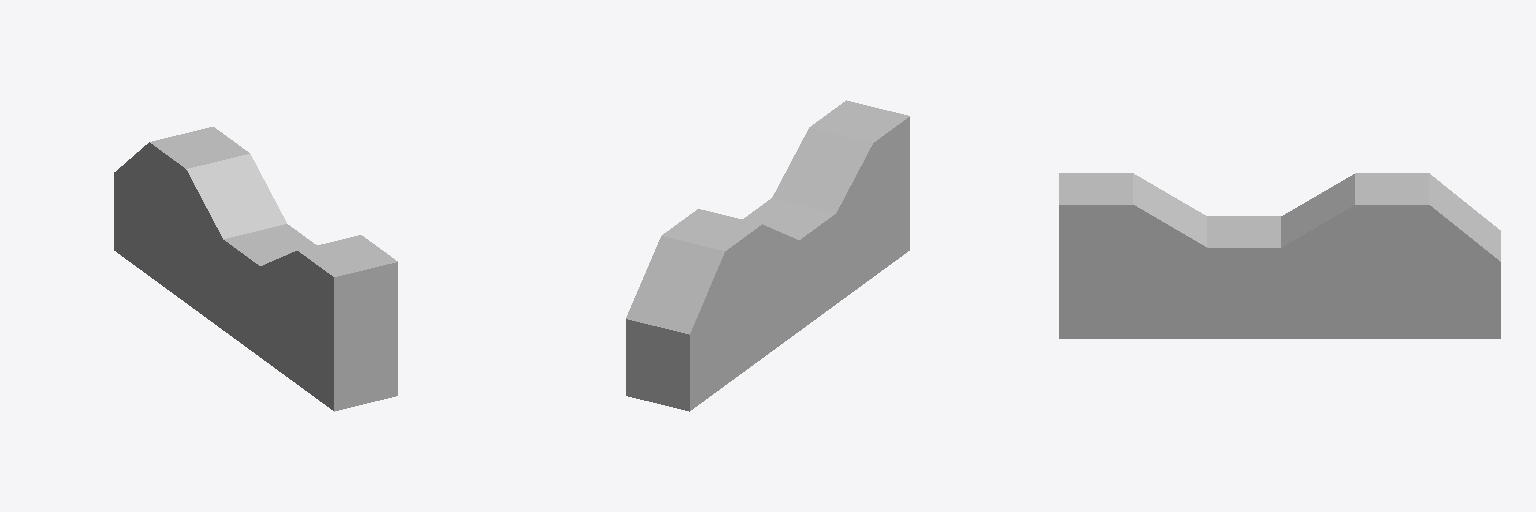
Rendered from cubecycle.obj.
3 views of the same model, side by side, from view 1: azimuth 30°, elevation 25°; view 2: azimuth 150°, elevation 25°; view 3: azimuth 270°, elevation 25° (orthographic).
Parts seen in each view (by area): view 1: Cube; view 2: Cube; view 3: Cube.
Boxes of the visible parts, x1=… form: Cube: x1=114, y1=127, x2=397, y2=411; Cube: x1=626, y1=100, x2=909, y2=411; Cube: x1=1059, y1=173, x2=1500, y2=338.
Bounding box in the file's own units: 1 × 2 × 5.96.